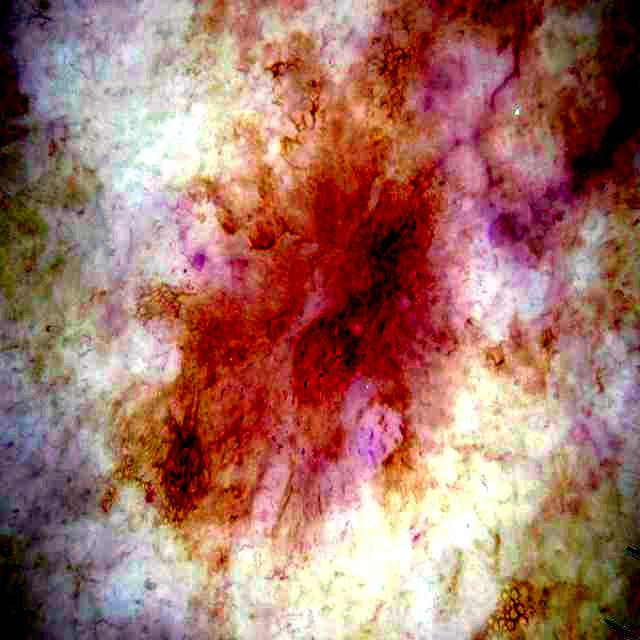DF: (157, 145, 493, 534)
